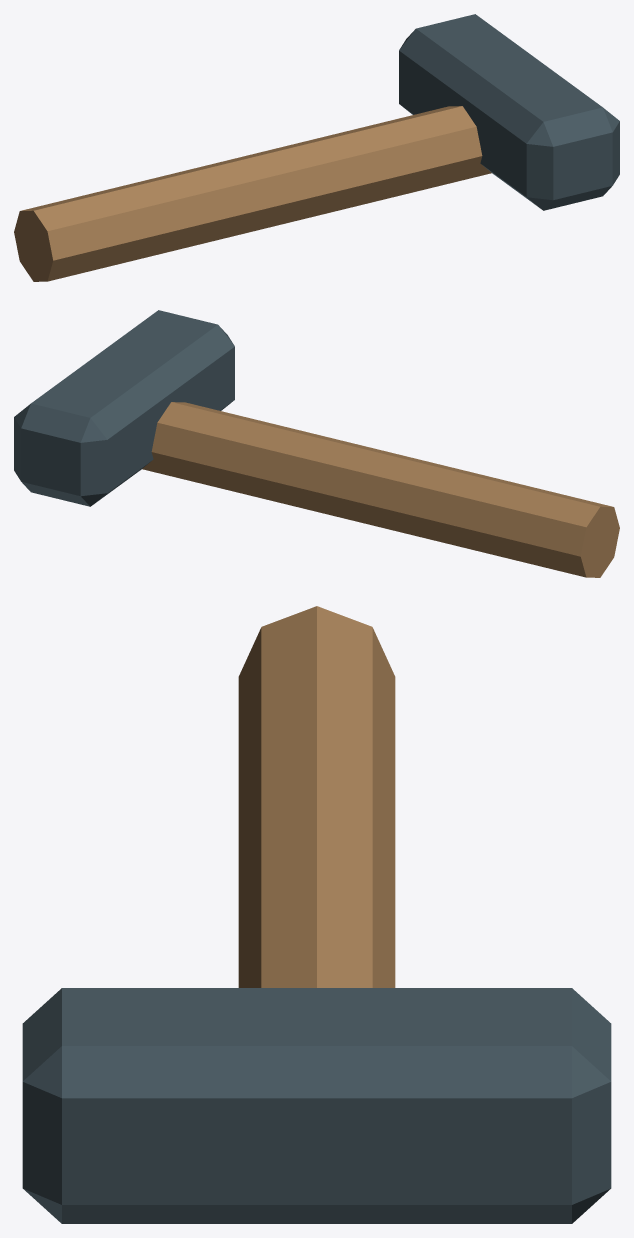
Rendered from set_caulking_gun.glb.
3 renders of one model, top to bottom at view 1: azimuth 30°, elevation 25°; view 2: azimuth 150°, elevation 25°; view 3: azimuth 270°, elevation 25°, orthographic. The views are drawn at different scales.
Parts seen in each view (by area): view 1: set_caulking_gun; view 2: set_caulking_gun; view 3: set_caulking_gun.
Part boxes in pixels (box(x1,y1,x2,y2)): set_caulking_gun: box(14, 14, 619, 281); set_caulking_gun: box(14, 310, 619, 577); set_caulking_gun: box(22, 606, 611, 1223).
Size of the model in its own units: 0.3075 by 0.055 by 0.15.
